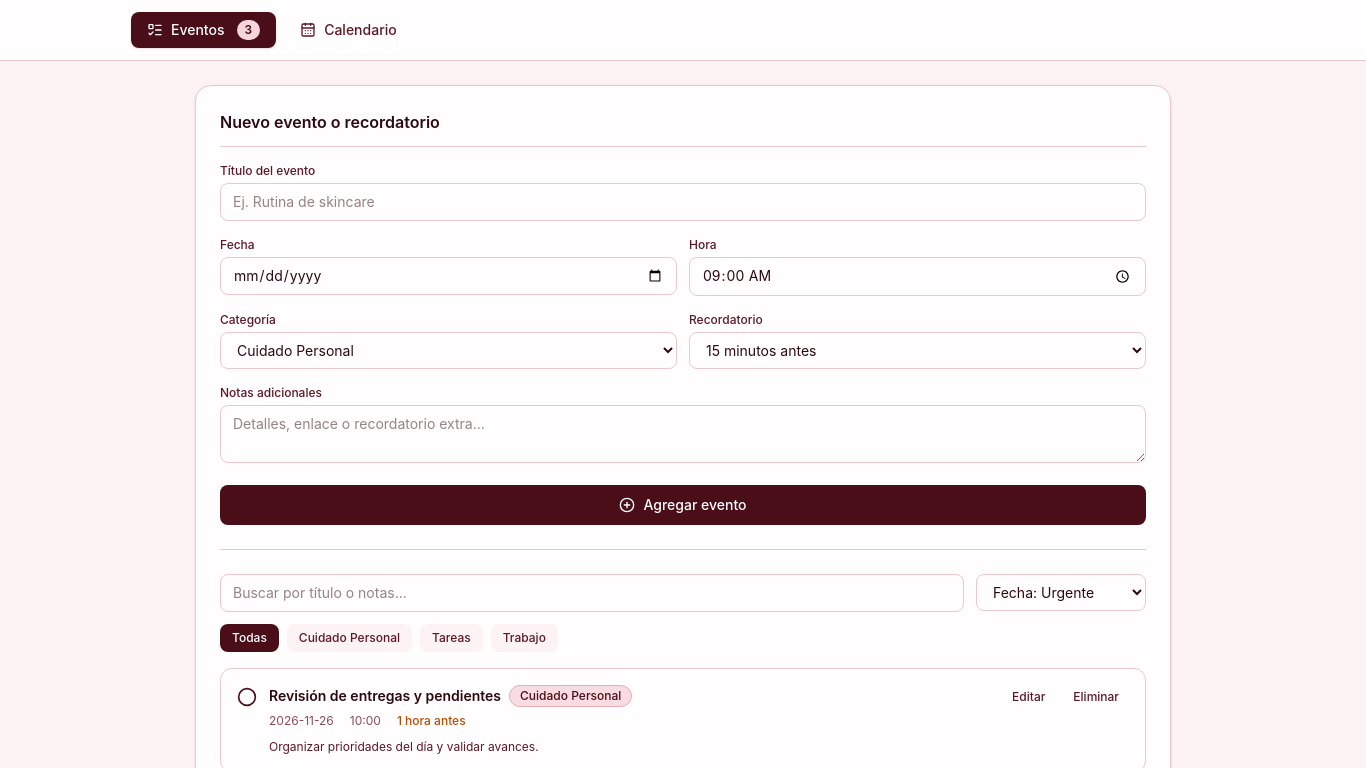
Test: Aplicación de Gestión de Eventos › permite agregar un nuevo evento y mostrarlo en la lista
Type "Reunión de comunicaciones" into the field labelled "Título del evento".
click(683, 202); type("Reunión de comunicaciones")  # box x1=220 y1=183 x2=1146 y2=221
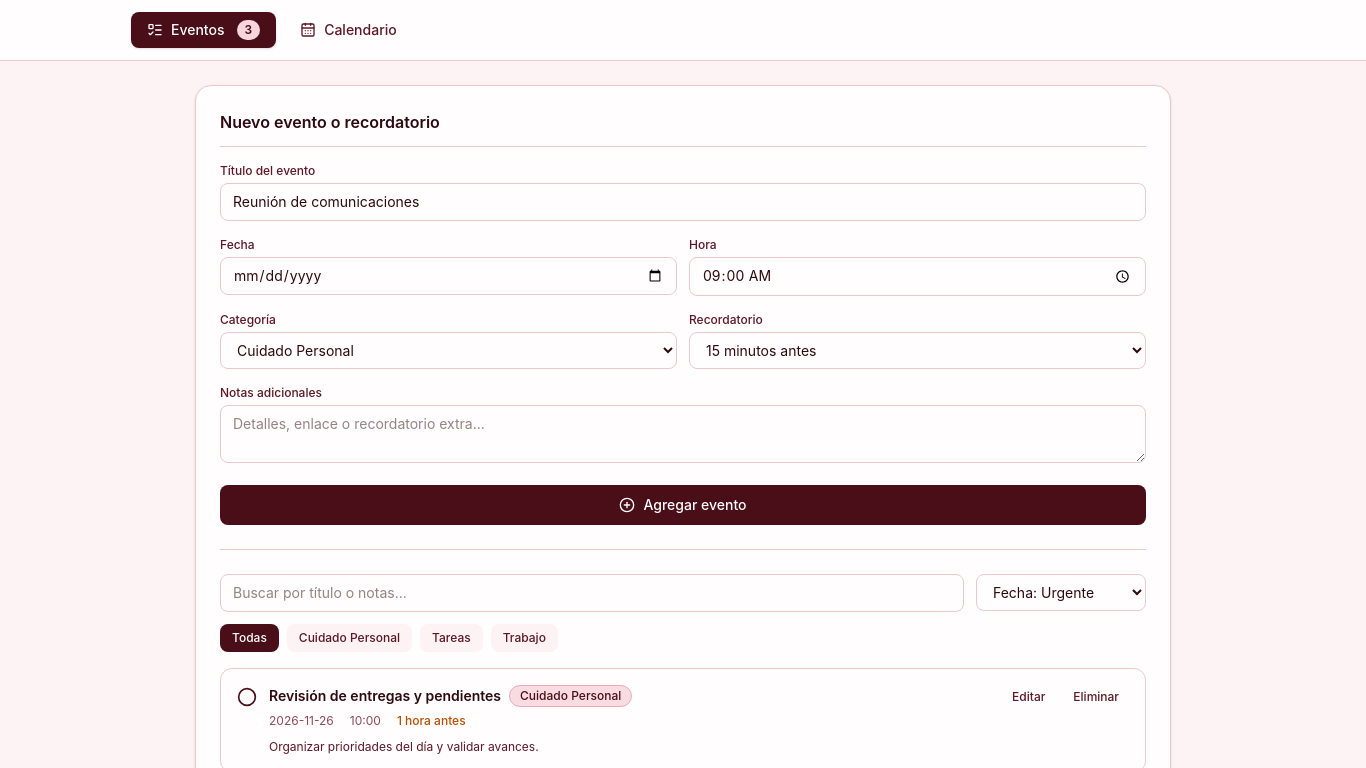
Type "2026-12-01" into the date field labelled "Fecha".
click(448, 276); type("2026-12-01")  # box x1=220 y1=257 x2=677 y2=295
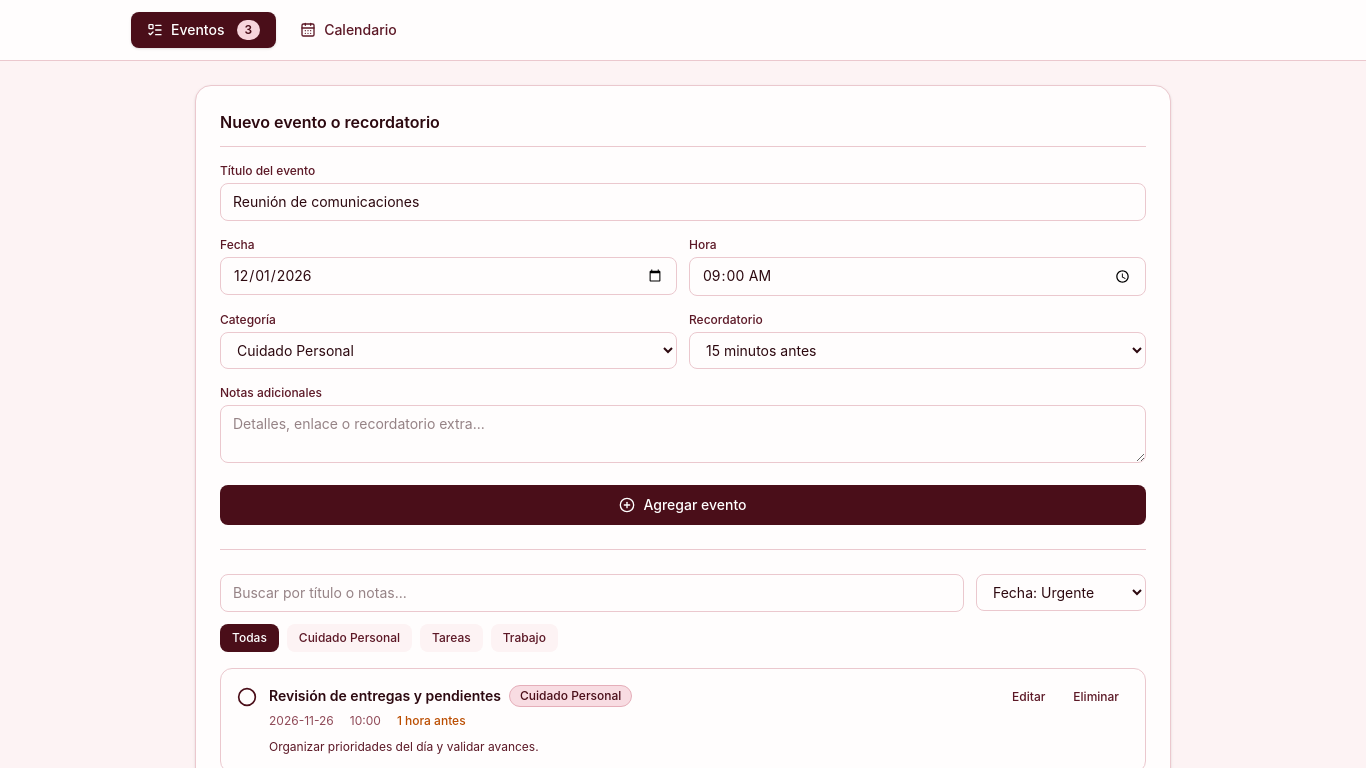
Replace the text in the time field labelled "Hora" with "14:30" at (918, 276), box x1=689 y1=257 x2=1146 y2=296
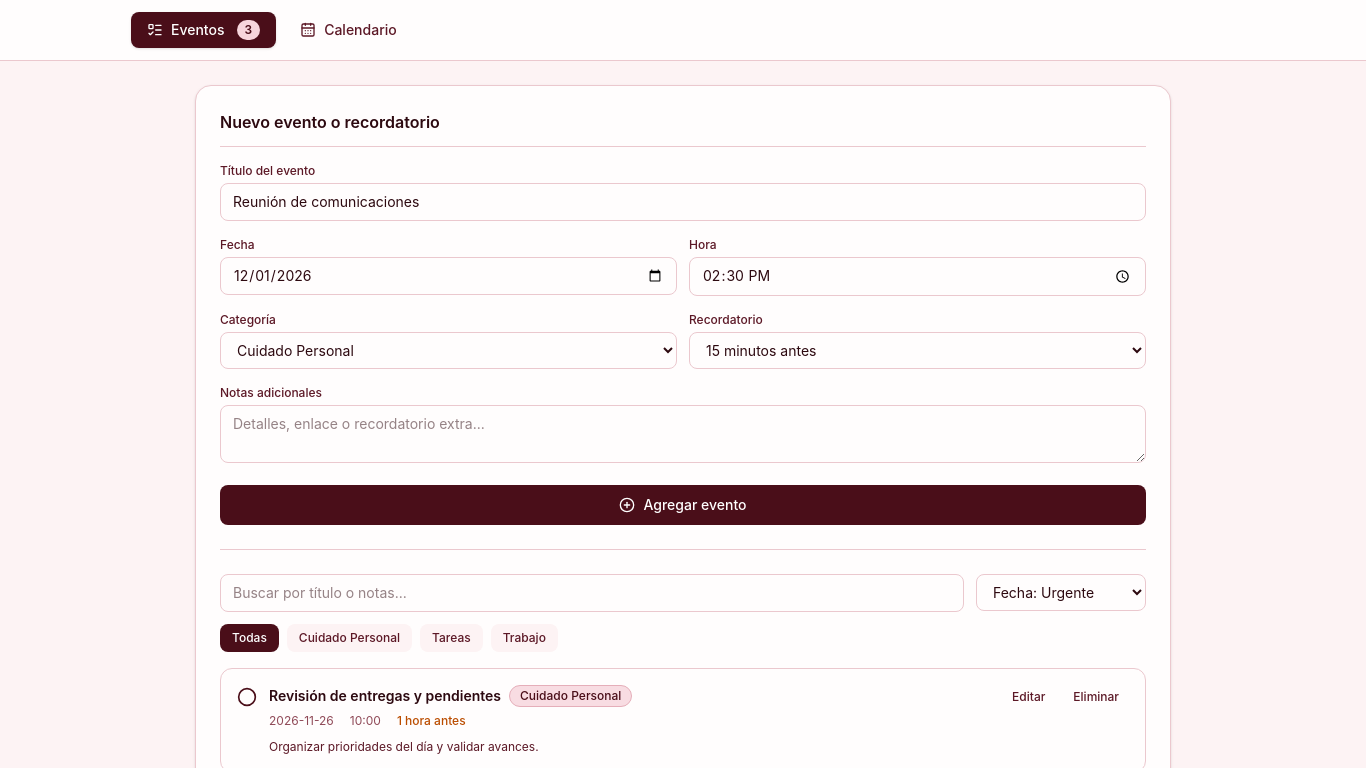
Select "Trabajo" in the dropdown labelled "Categoría" at (448, 350), box x1=220 y1=332 x2=677 y2=369
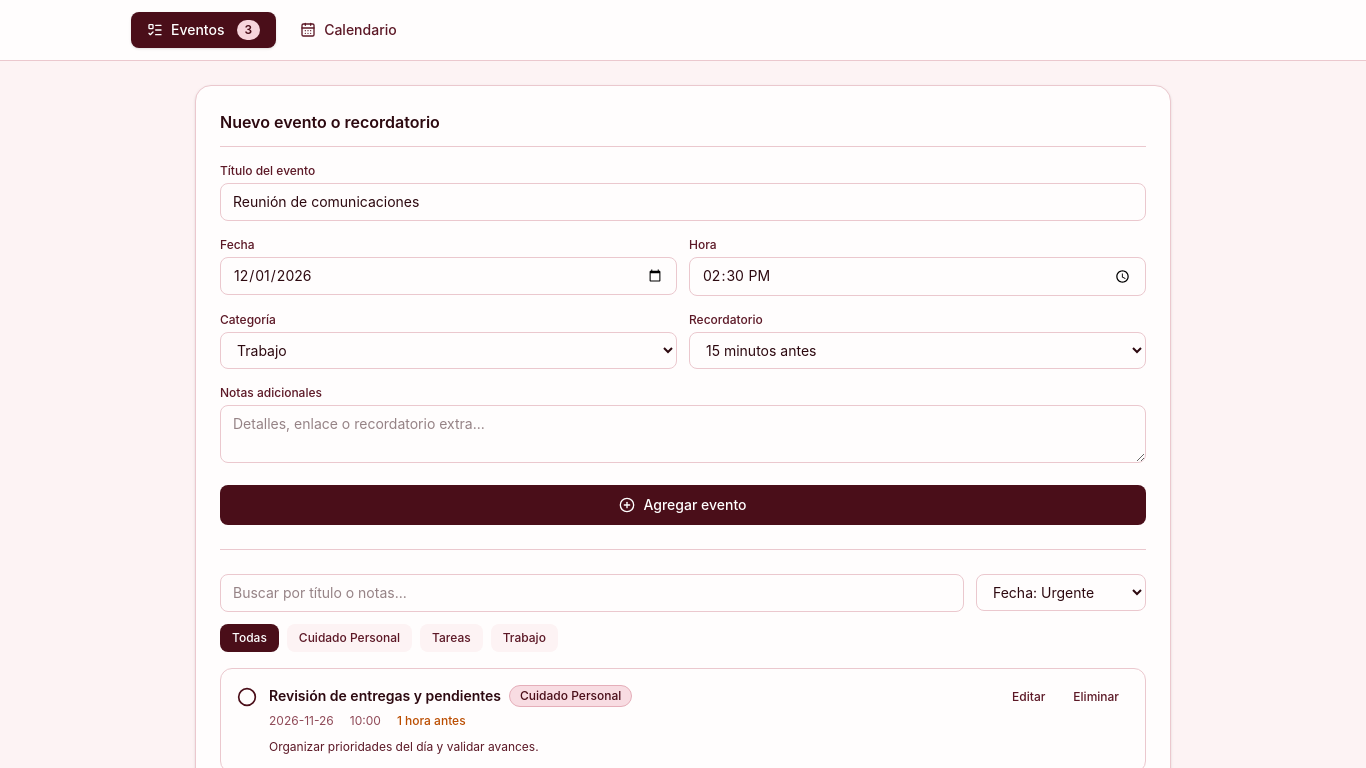
Click the button "Agregar evento".
click(683, 505)  # box x1=220 y1=485 x2=1146 y2=525
(page scrolled)
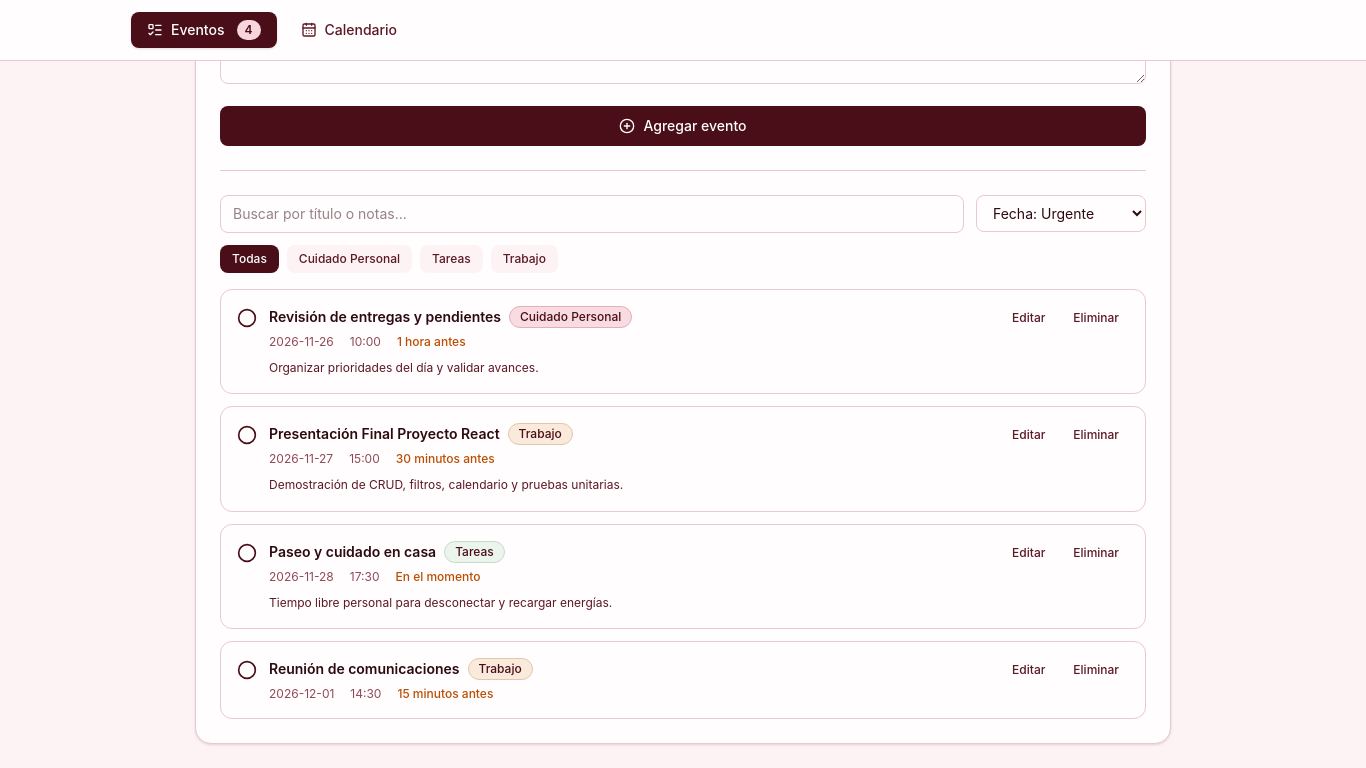
Check: the heading "Reunión de comunicaciones" is shown, box x1=269 y1=659 x2=460 y2=679
